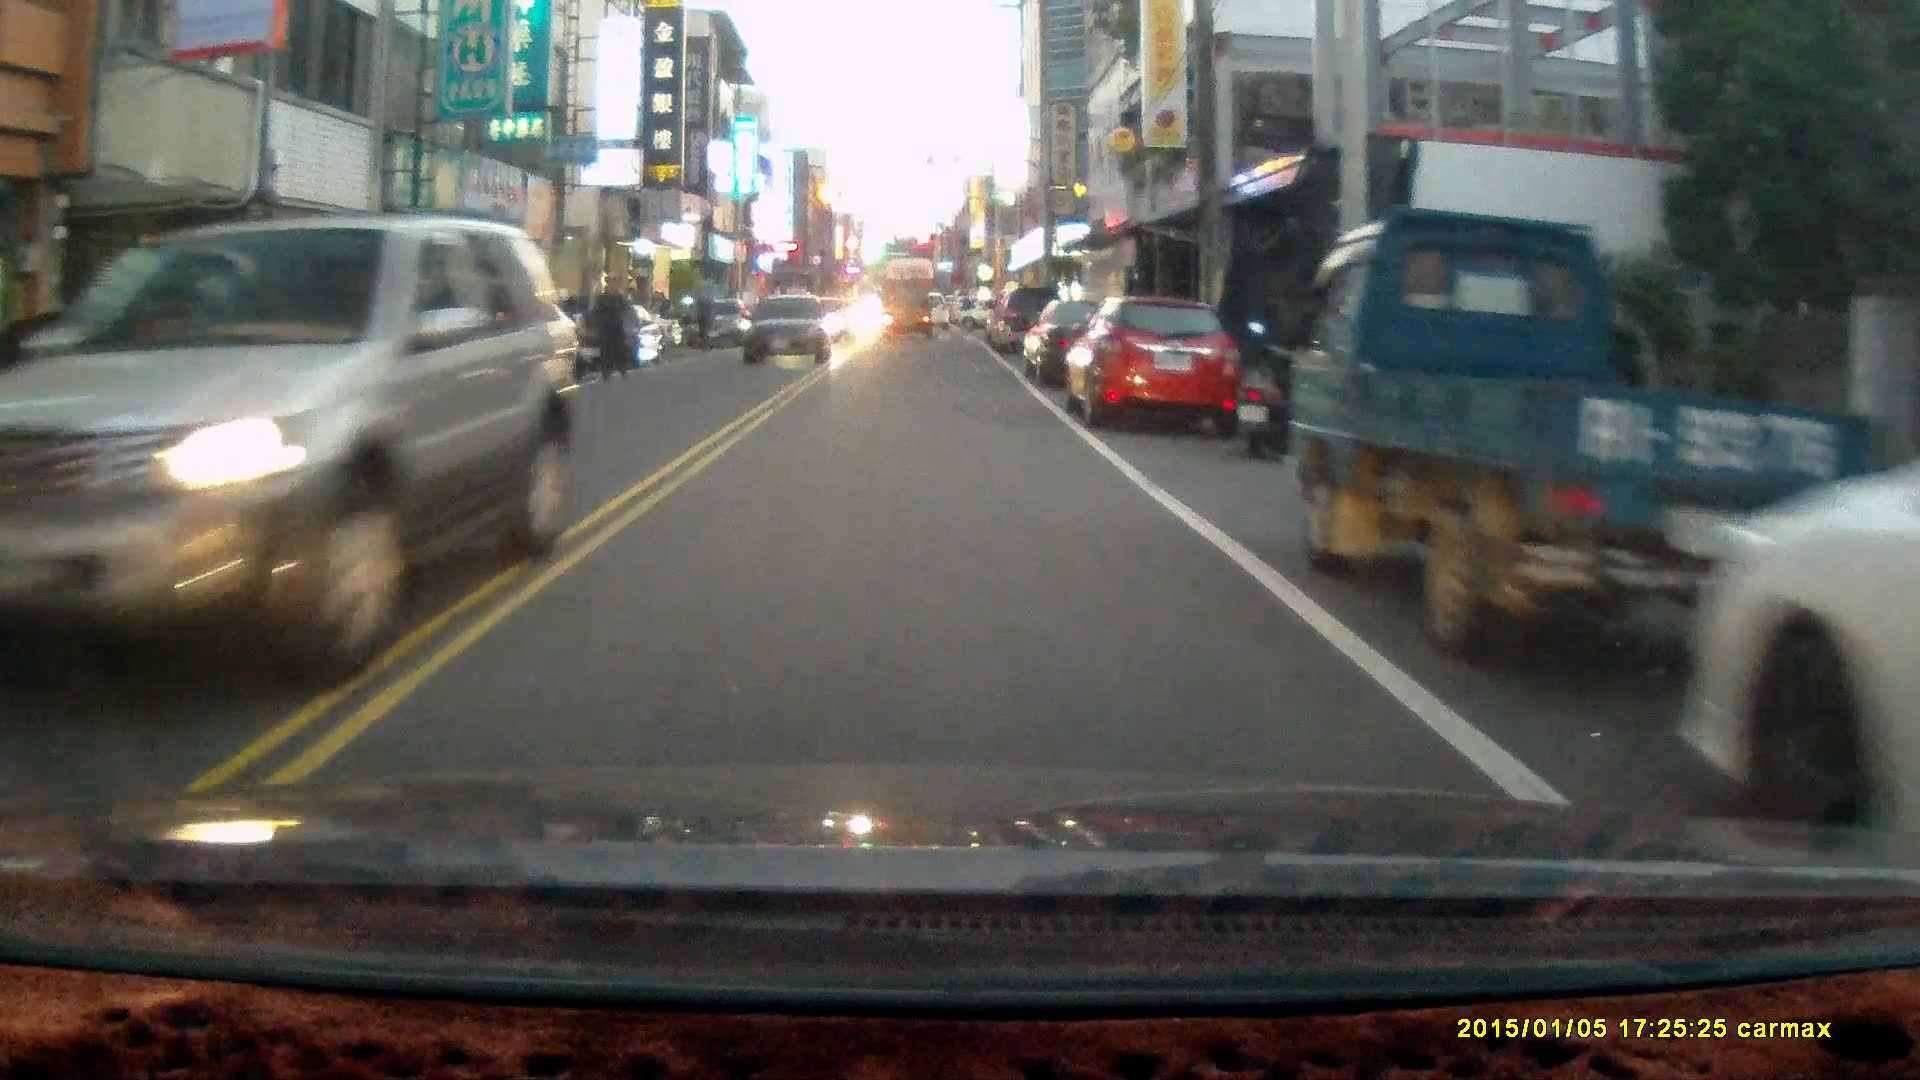pedestrian: (590, 272, 628, 381), (690, 285, 714, 350)
vehicle: (4, 216, 579, 704), (1279, 209, 1864, 656), (1673, 422, 1920, 883), (1066, 297, 1240, 433), (1018, 289, 1165, 394), (745, 290, 830, 366), (877, 282, 935, 343)
